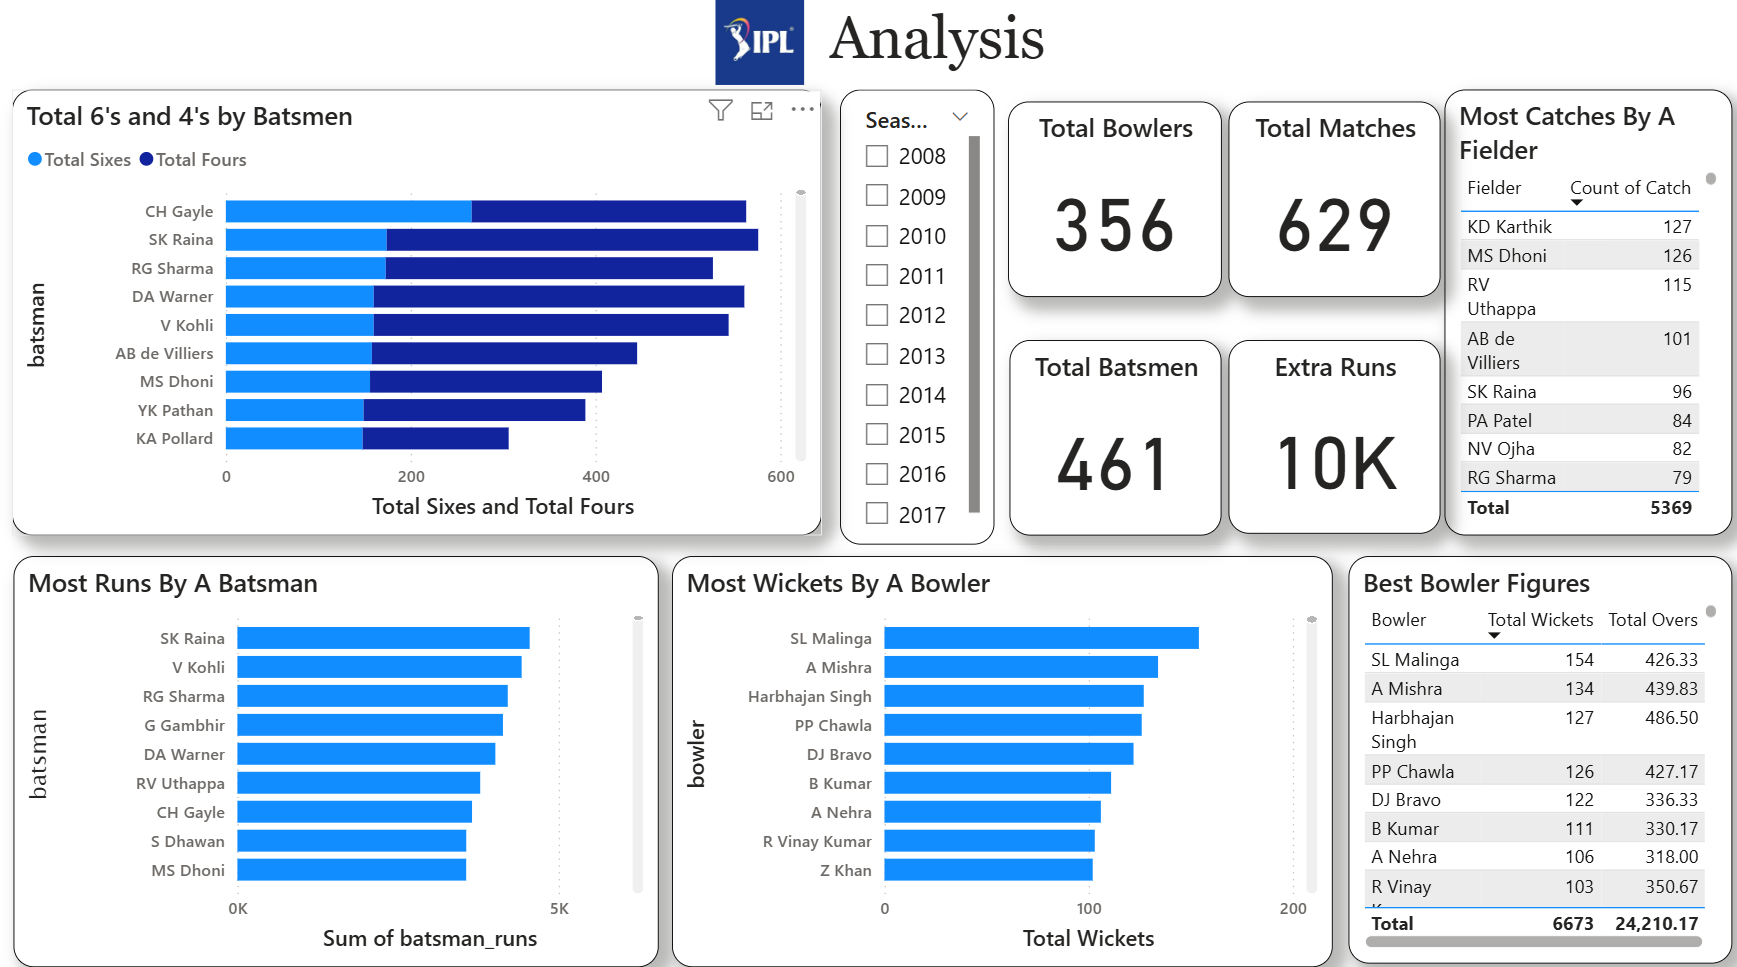

What the dashboard file says about the page in this screenshot:
{"tool":"powerbi","page":{"name":"Player_Stats","canvas":[1280,720],"ordinal":1},"visuals":[{"type":"barChart","title":"Most Runs By A Batsman","fields":{"Category":["deliveries_clean.batsman"],"Y":["Sum(deliveries_clean.batsman_runs)"]},"box":[13.7,413.5,470.9,299.8],"z":0},{"type":"barChart","title":"Most Wickets By A Bowler","fields":{"Category":["deliveries_clean.bowler"],"Y":["deliveries_clean.Total Wickets"]},"box":[494.7,413.5,482.2,299.8],"z":1000},{"type":"tableEx","title":"Best Bowler Figures","fields":{"Values":["deliveries_clean.bowler","deliveries_clean.Total Wickets","deliveries_clean.Total Overs"]},"box":[988.4,413.2,280.3,297.2],"z":2000},{"type":"tableEx","title":"Most Catches By A Fielder","fields":{"Values":["deliveries_clean.fielder","deliveries_clean.Catch"]},"box":[1058.5,73.7,210.2,325],"z":3000},{"type":"slicer","fields":{"Values":["matches_clean.season"]},"box":[617.4,73.7,112.4,332.3],"z":4000},{"type":"barChart","title":"Total 6''s and 4''s by Batsmen","fields":{"Category":["deliveries_clean.batsman"],"Y":["deliveries_clean.Total Sixes","deliveries_clean.Total Fours"]},"box":[13.3,73.7,590.9,325],"z":5000},{"type":"card","title":"Total Batsmen","fields":{"Values":["Count(batsmen.batsman)"]},"box":[740.8,256.1,154.9,142.4],"z":6000},{"type":"card","title":"Total Bowlers","fields":{"Values":["Count(bowlers.bowler)"]},"box":[739.5,82.4,156.1,142.4],"z":7000},{"type":"card","title":"Total Matches","fields":{"Values":["Count(matches_clean.id)"]},"box":[900,82.4,154.9,142.4],"z":8000},{"type":"card","title":"Extra Runs","fields":{"Values":["Sum(deliveries_clean.extra_runs)"]},"box":[900,256.1,154.9,141.2],"z":9000},{"type":"image","box":[499.1,0,118.9,75],"z":11000},{"type":"textbox","box":[603.8,5.2,178.4,69.8],"z":12000}]}

Visuals, with their boxes in screenshot pixels (x1, y1, x2, y2), scaled from the page's 1280x720 canvas onto the 1737x967 screenshot:
"Most Runs By A Batsman" barChart: (19,555,658,958)
"Most Wickets By A Bowler" barChart: (671,555,1326,958)
"Best Bowler Figures" tableEx: (1341,555,1722,954)
"Most Catches By A Fielder" tableEx: (1436,99,1722,535)
slicer - matches_clean.season: (838,99,990,545)
"Total 6''s and 4''s by Batsmen" barChart: (18,99,820,535)
"Total Batsmen" card: (1005,344,1215,535)
"Total Bowlers" card: (1004,111,1215,302)
"Total Matches" card: (1221,111,1432,302)
"Extra Runs" card: (1221,344,1432,534)
image: (677,0,839,101)
textbox: (819,7,1061,101)
